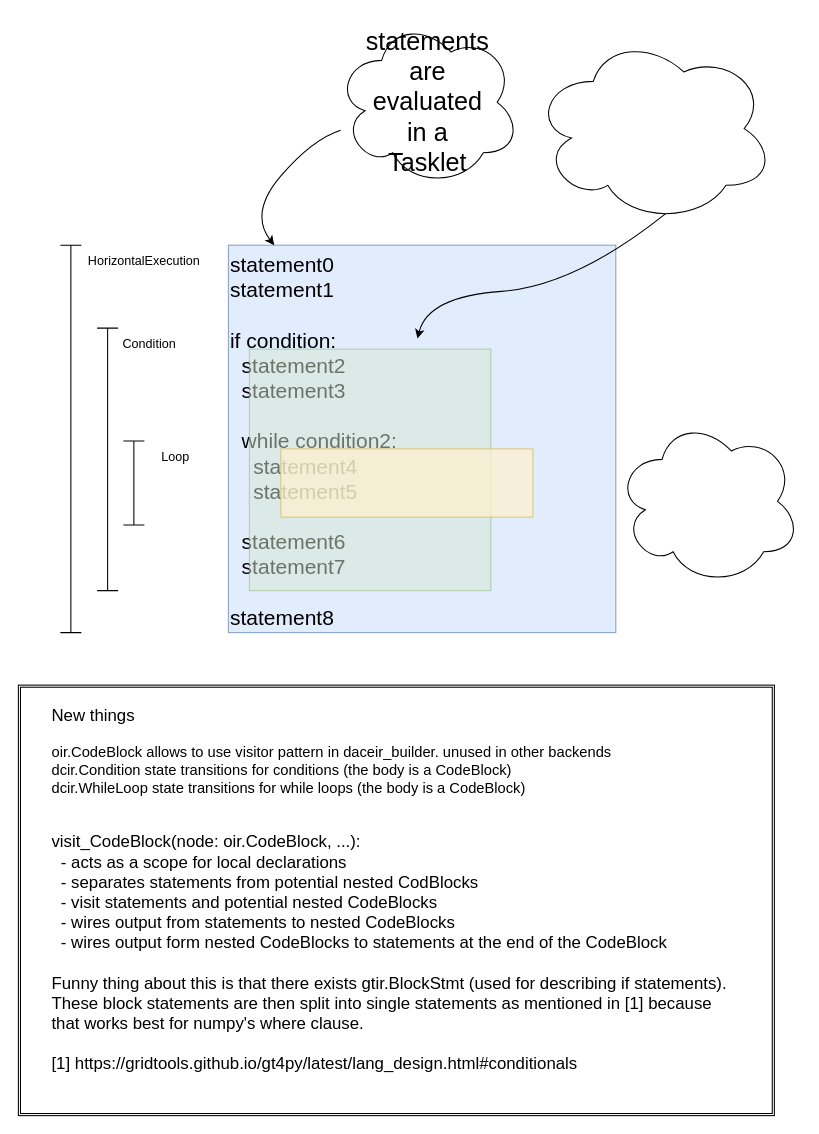
Image size: 819x1134. Some labels were removed from this diagram. The shapes that lost their labels are listed below. From the top down, each one's box as (x1, y1, x2, y2) in pixels, then its label:
(532, 33, 774, 223): Conditions and Loops translate to nested SDFG
(615, 416, 801, 585): each color denotes one CodeBlock
